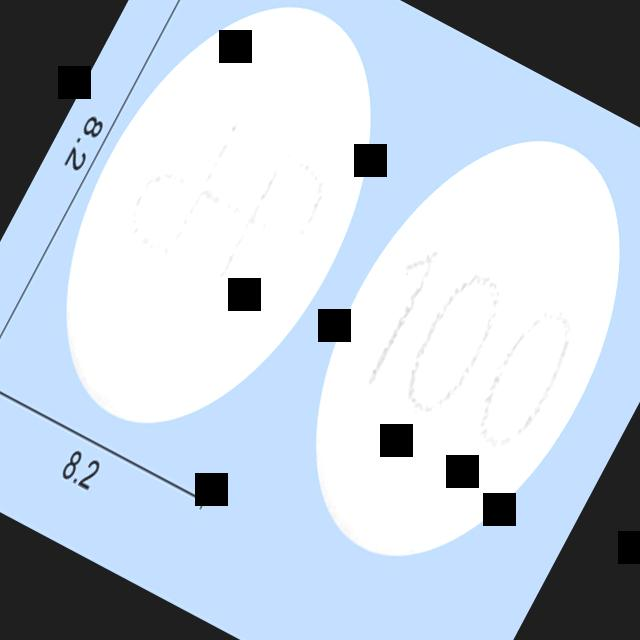Carbastar: (0, 0, 437, 481)
